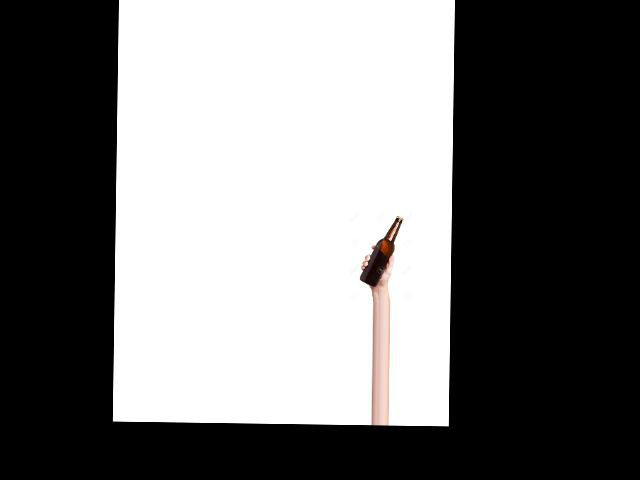beer: (360, 215, 404, 286)
